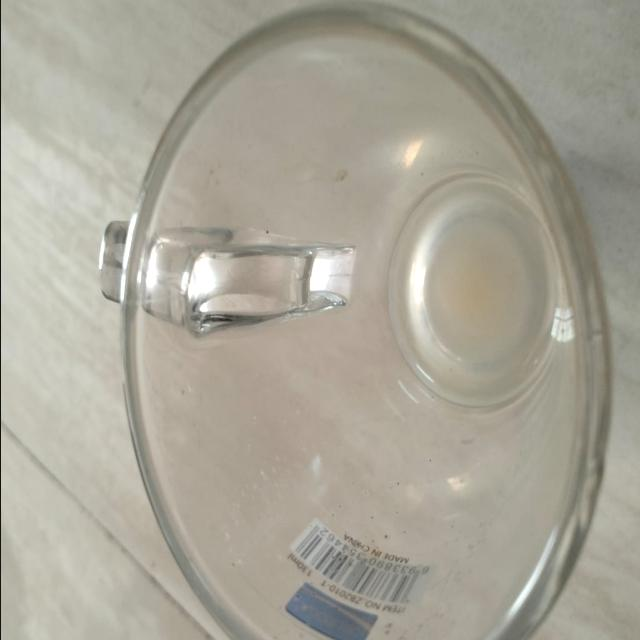glass-VX4N: (95, 2, 608, 640)
